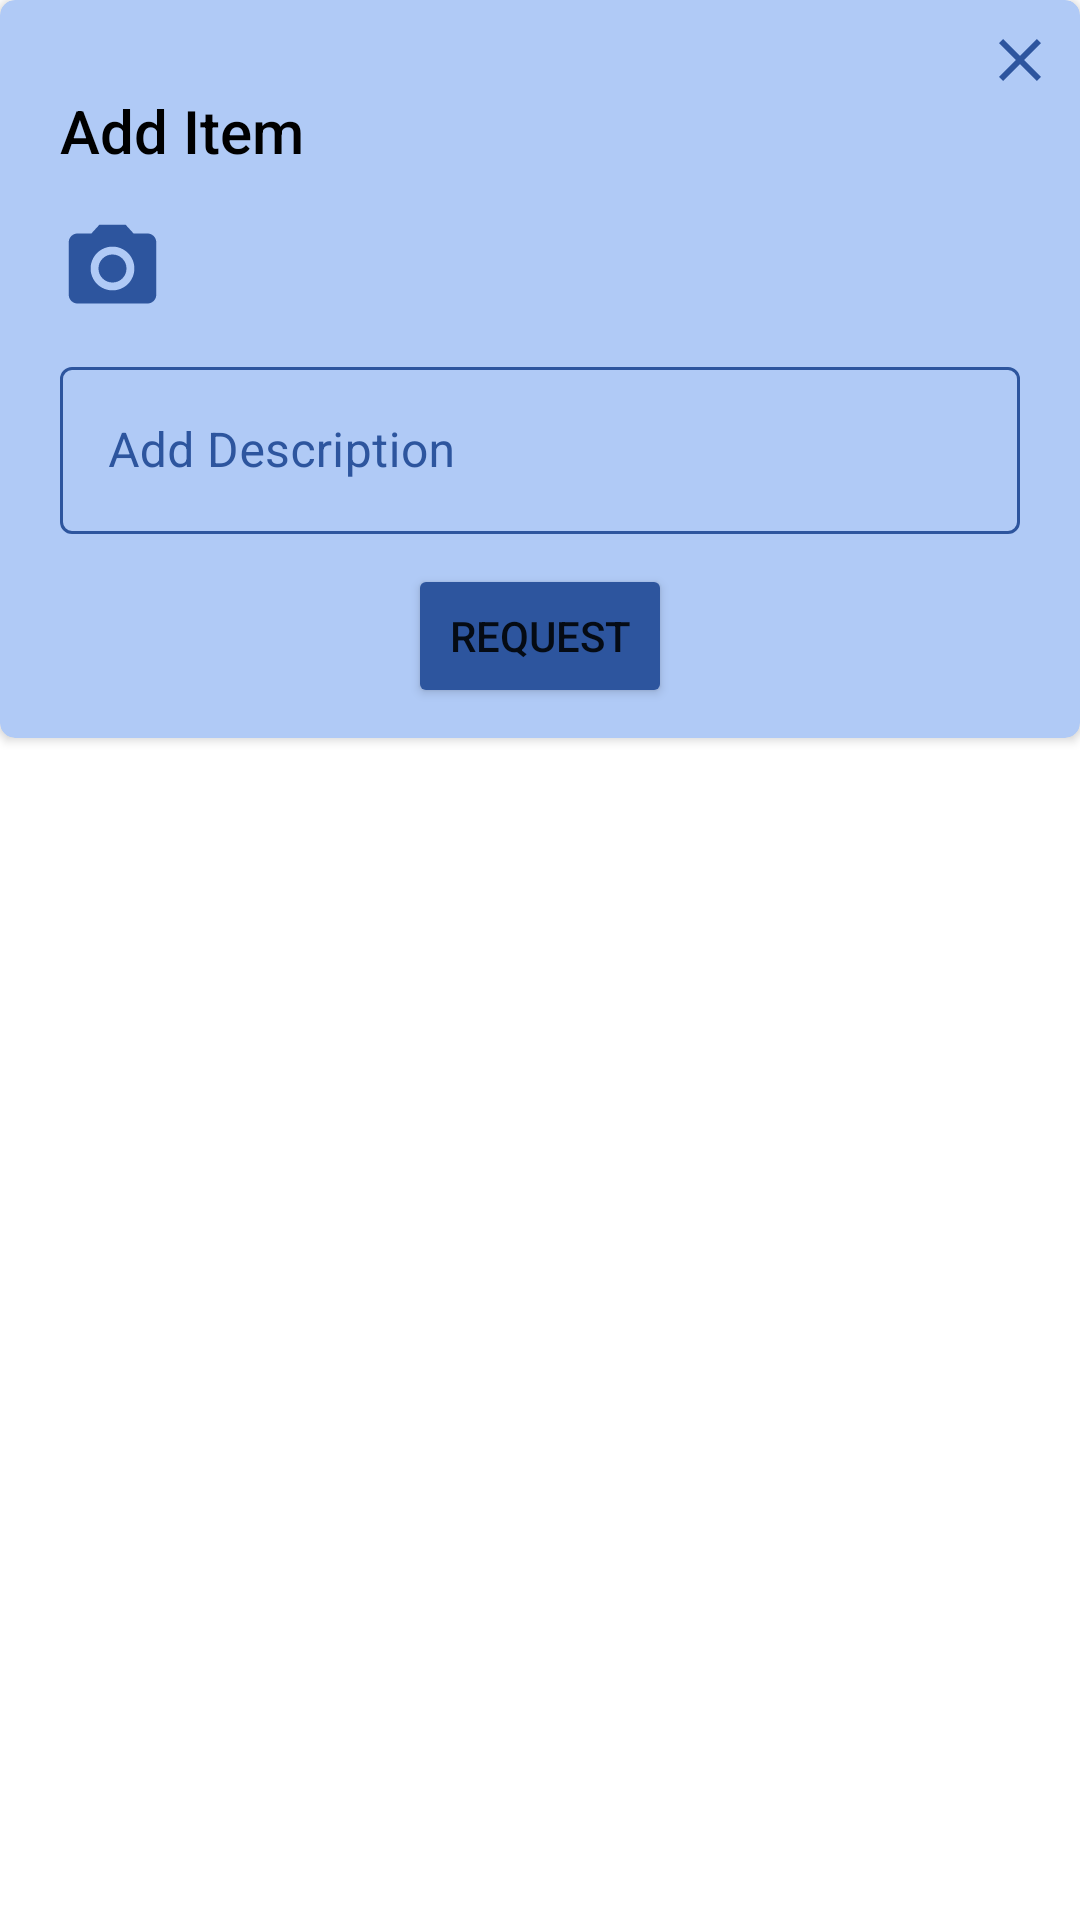

Named icons in this screenshot (1080 × 1920) and their bounding boxes, (x1, y1, x2, y2):
close: (999, 39, 1041, 81)
photo camera: (68, 224, 157, 304)
